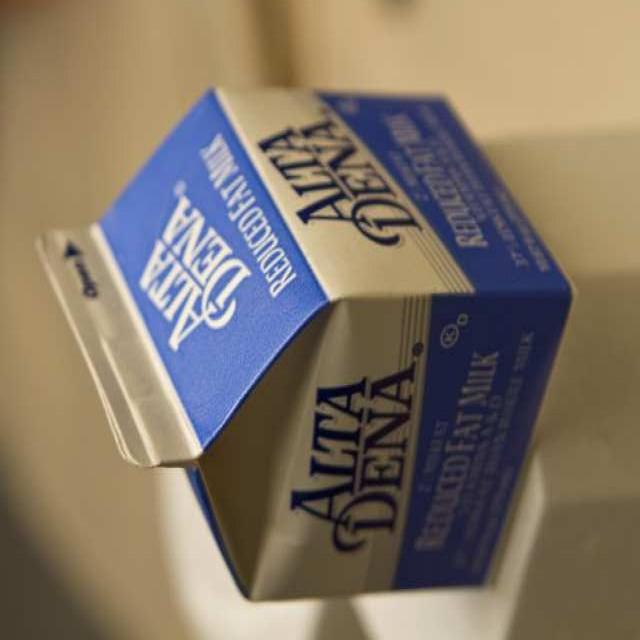non_white_jug: (32, 85, 582, 603)
